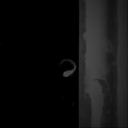fish: (59, 58, 77, 78)
